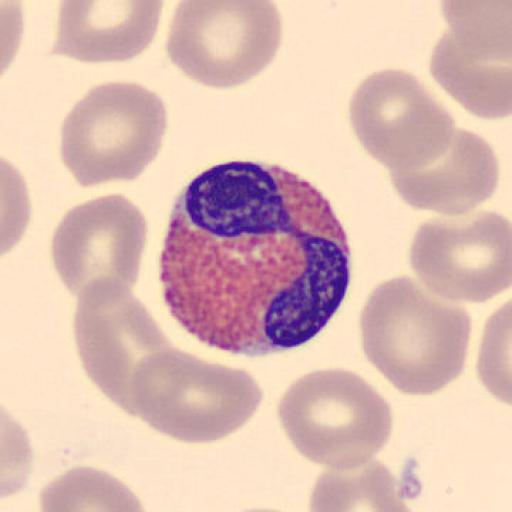RBC: (358, 272, 474, 397), (70, 274, 170, 417), (129, 346, 265, 446), (276, 365, 394, 474), (58, 78, 168, 188), (346, 66, 456, 172), (49, 191, 150, 301), (164, 0, 285, 90), (382, 126, 500, 217), (408, 208, 512, 304), (428, 3, 512, 121), (53, 0, 165, 66), (306, 458, 422, 512), (36, 465, 150, 512), (439, 0, 511, 59), (476, 296, 512, 410), (1, 155, 32, 258), (1, 405, 33, 503), (0, 0, 25, 80), (220, 503, 304, 512)
WBC: (159, 158, 353, 358)
